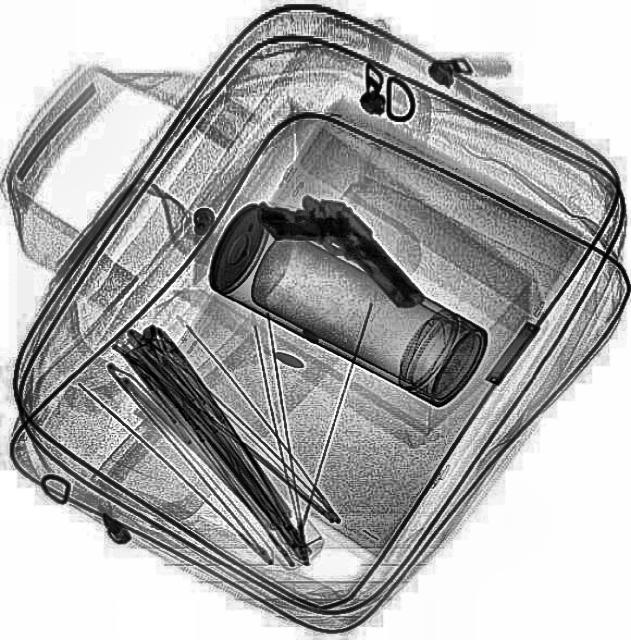Gun: (246, 162, 424, 344)
